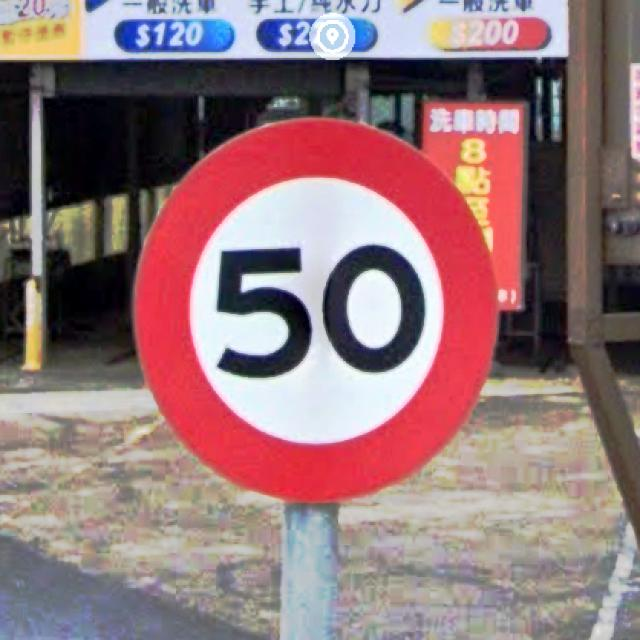max50: (128, 113, 500, 504)
